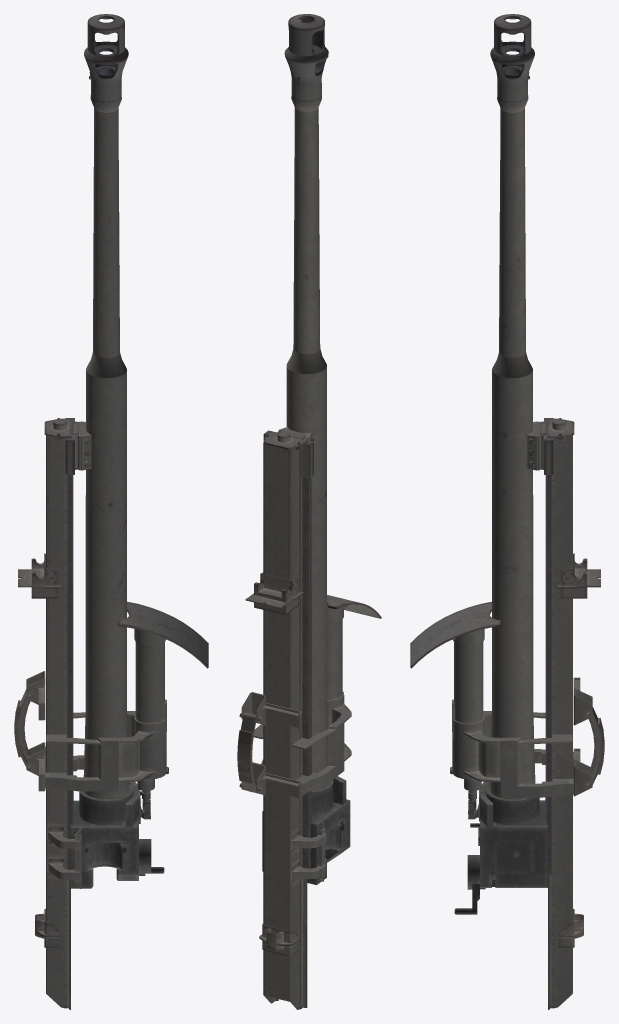
File: Gun_01.glb
3 renders of one model, left to right at view 1: azimuth 90°, elevation 25°; view 2: azimuth 150°, elevation 25°; view 3: azimuth 270°, elevation 25°, orthographic.
Parts seen in each view (by area): view 1: set_0_group_0; view 2: set_0_group_0; view 3: set_0_group_0.
Part boxes in pixels (x1,y1,x2,y2): set_0_group_0: (14, 14, 208, 1009); set_0_group_0: (237, 14, 381, 1009); set_0_group_0: (410, 14, 604, 1009).
Size of the model in its own units: 0.499 by 5.97 by 1.07.
1 material, 1 textured.
